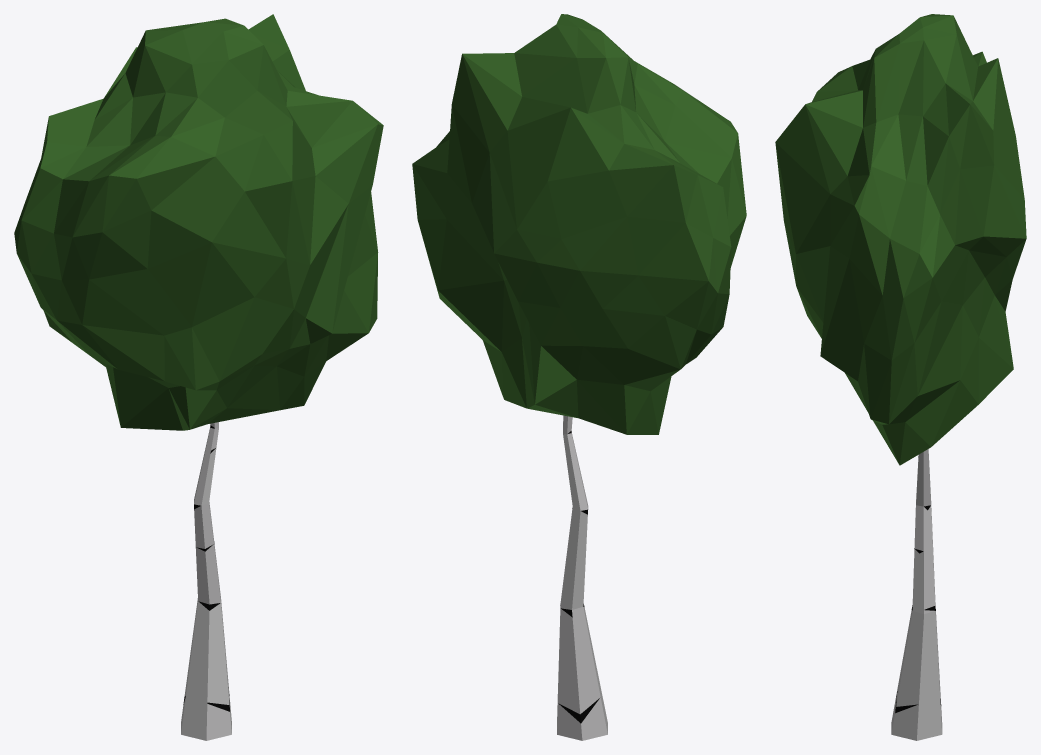
Rendered from Tree_Birch_1.fbx.
3 views of the same model, side by side, from view 1: azimuth 30°, elevation 25°; view 2: azimuth 150°, elevation 25°; view 3: azimuth 270°, elevation 25° (orthographic).
Parts seen in each view (by area): view 1: Tree Birch 1; view 2: Tree Birch 1; view 3: Tree Birch 1.
Boxes of the visible parts, bbox=[...] form: Tree Birch 1: bbox=[14, 14, 383, 740]; Tree Birch 1: bbox=[412, 14, 746, 740]; Tree Birch 1: bbox=[775, 14, 1026, 740].
Bounding box in the file's own units: 1730 × 3494 × 1134.
